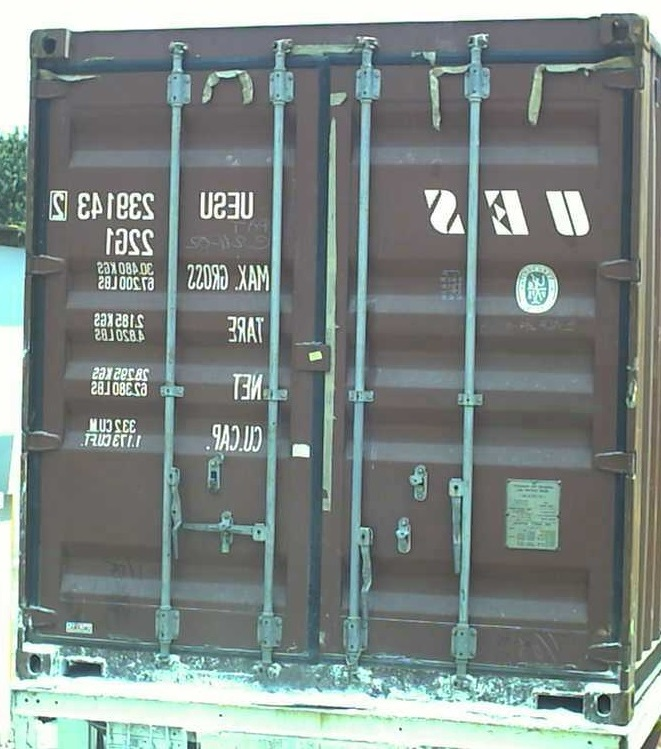container_door: (24, 10, 646, 724)
